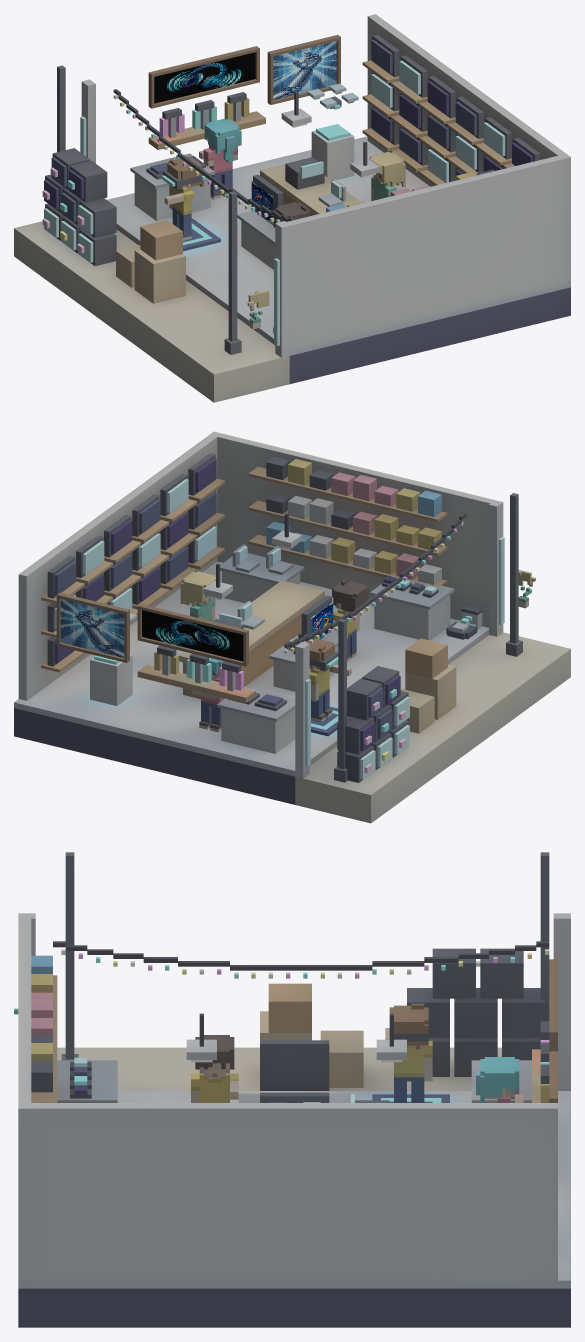
File: raum_elektronik.glb
3 renders of one model, top to bottom at view 1: azimuth 30°, elevation 25°; view 2: azimuth 150°, elevation 25°; view 3: azimuth 270°, elevation 25°, orthographic. The views are drawn at different scales.
Visible parts, largest first — view 1: Elektronikladen, Raum_Gehweg, Elektronik_Bildschirmwand, Raum_Sockel, Elektronik_Fernseher_Gehweg, Elektronik_Kartons_Gehweg, Strassenleben, Elektronik_Poster_arm_Motiv, Elektronik_Poster_phones_Motiv, Elektronik_Kopfhoerer, Elektronik_Drohne, Elektronik_Geraetetisch_2 (+14 smaller); view 2: Elektronikladen, Raum_Gehweg, Elektronik_Bildschirmwand, Elektronik_Kartonregal, Raum_Sockel, Elektronik_Fernseher_Gehweg, Elektronik_Theke, Elektronik_Geraetetisch_1, Elektronik_Kartons_Gehweg, Elektronik_Geraetetisch_2, Strassenleben, Elektronik_Kopfhoerer (+14 smaller); view 3: Elektronikladen, Raum_Sockel, Elektronik_Fernseher_Gehweg, Raum_Gehweg, Elektronik_Kartons_Gehweg, Elektronik_Fernsehinsel, Elektronik_Lichterkette, Elektronik_Kartonregal, Strassenleben, Elektronik_VR_Spieler, Elektronik_Geraetetisch_1, Elektronik_Kunde (+6 smaller).
Boxes of the visible parts, x1,y1,x2,y2 form: Elektronikladen: (80, 14, 570, 357); Raum_Gehweg: (14, 221, 289, 402); Elektronik_Bildschirmwand: (362, 34, 540, 185); Raum_Sockel: (289, 287, 570, 383); Elektronik_Fernseher_Gehweg: (42, 148, 116, 266); Elektronik_Kartons_Gehweg: (116, 220, 185, 303); Strassenleben: (57, 65, 269, 354); Elektronik_Poster_arm_Motiv: (273, 41, 336, 99); Elektronik_Poster_phones_Motiv: (154, 52, 255, 103); Elektronik_Kopfhoerer: (148, 92, 265, 149); Elektronik_Drohne: (307, 83, 358, 180); Elektronik_Geraetetisch_2: (130, 153, 214, 220); Elektronikladen: (14, 431, 504, 778); Raum_Gehweg: (295, 632, 570, 823); Elektronik_Bildschirmwand: (41, 453, 225, 672); Elektronik_Kartonregal: (248, 456, 447, 587); Raum_Sockel: (14, 708, 295, 804); Elektronik_Fernseher_Gehweg: (337, 666, 409, 782); Elektronik_Theke: (179, 580, 324, 698); Elektronik_Geraetetisch_1: (370, 576, 454, 640); Elektronik_Kartons_Gehweg: (400, 638, 456, 733); Elektronik_Geraetetisch_2: (217, 686, 295, 753); Strassenleben: (334, 493, 535, 782); Elektronik_Kopfhoerer: (137, 645, 255, 703); Elektronikladen: (18, 913, 570, 1288); Raum_Sockel: (18, 1288, 570, 1327); Elektronik_Fernseher_Gehweg: (407, 948, 544, 1076); Raum_Gehweg: (57, 1047, 501, 1090); Elektronik_Kartons_Gehweg: (260, 983, 363, 1087); Elektronik_Fernsehinsel: (238, 1040, 350, 1102); Elektronik_Lichterkette: (53, 941, 549, 978); Elektronik_Kartonregal: (31, 955, 57, 1102); Strassenleben: (14, 852, 549, 1060); Elektronik_VR_Spieler: (385, 1003, 432, 1102); Elektronik_Geraetetisch_1: (57, 1057, 117, 1102); Elektronik_Kunde: (191, 1035, 238, 1102).
Bounding box in the file's own units: 8.25 × 4.13 × 8.06.
5 materials, 3 textured.
